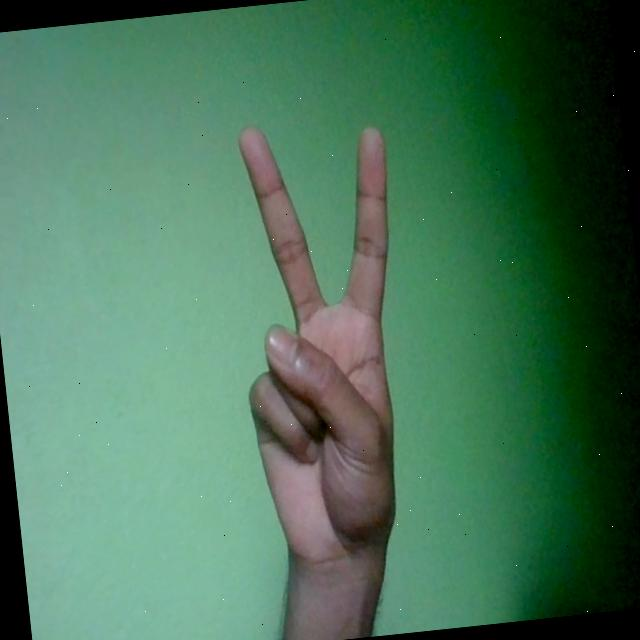Fist: (218, 111, 431, 586)
